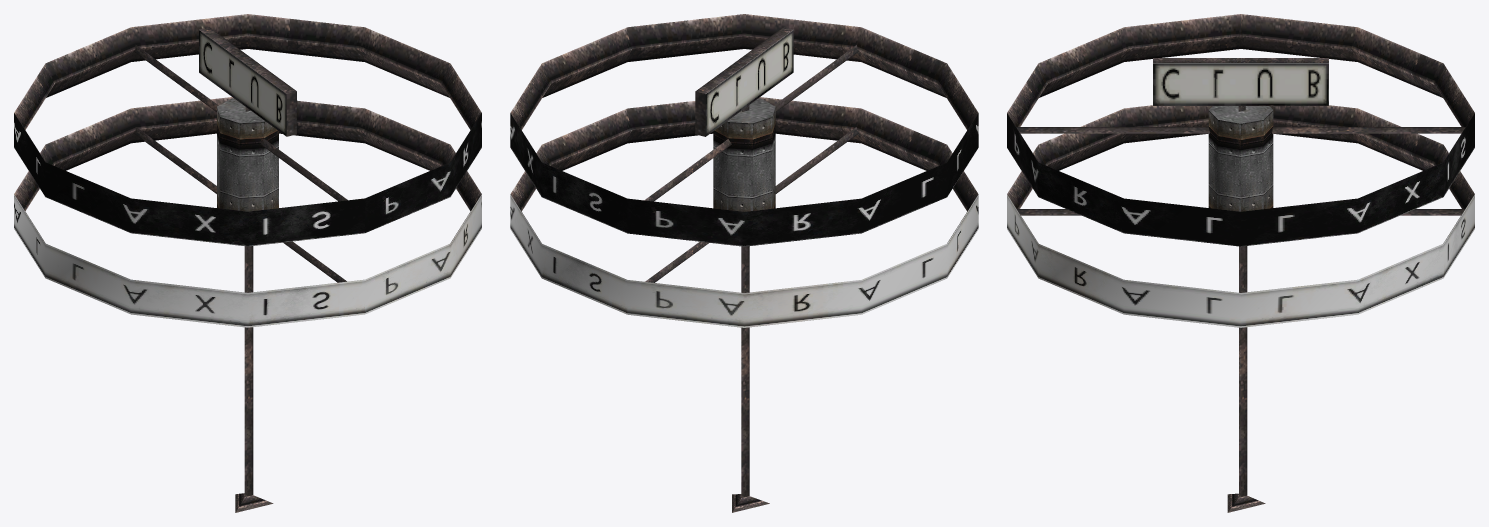
Rendered from club_parallaxis_int.fbx.
The picture shows the model from 3 angles, left to right: view 1: azimuth 30°, elevation 25°; view 2: azimuth 150°, elevation 25°; view 3: azimuth 270°, elevation 25°; orthographic projection.
Parts seen in each view (by area): view 1: mesh_0; view 2: mesh_0; view 3: mesh_0.
Part boxes in pixels (x1,y1,x2,y2): mesh_0: (14,14,481,512); mesh_0: (510,14,978,512); mesh_0: (1007,14,1474,512).
Size of the model in its own units: 382 by 399 by 382.
1 material, 1 textured.
